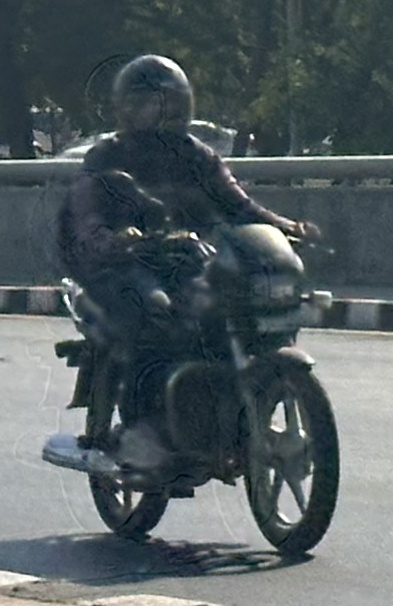BikeWithRider: (33, 46, 347, 563)
Helmet: (106, 49, 200, 150)
